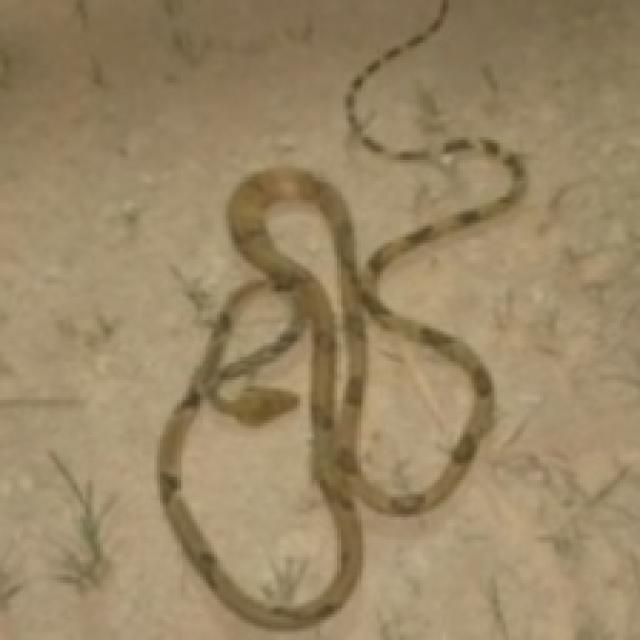dog-toothed cat snake: (157, 0, 526, 629)
